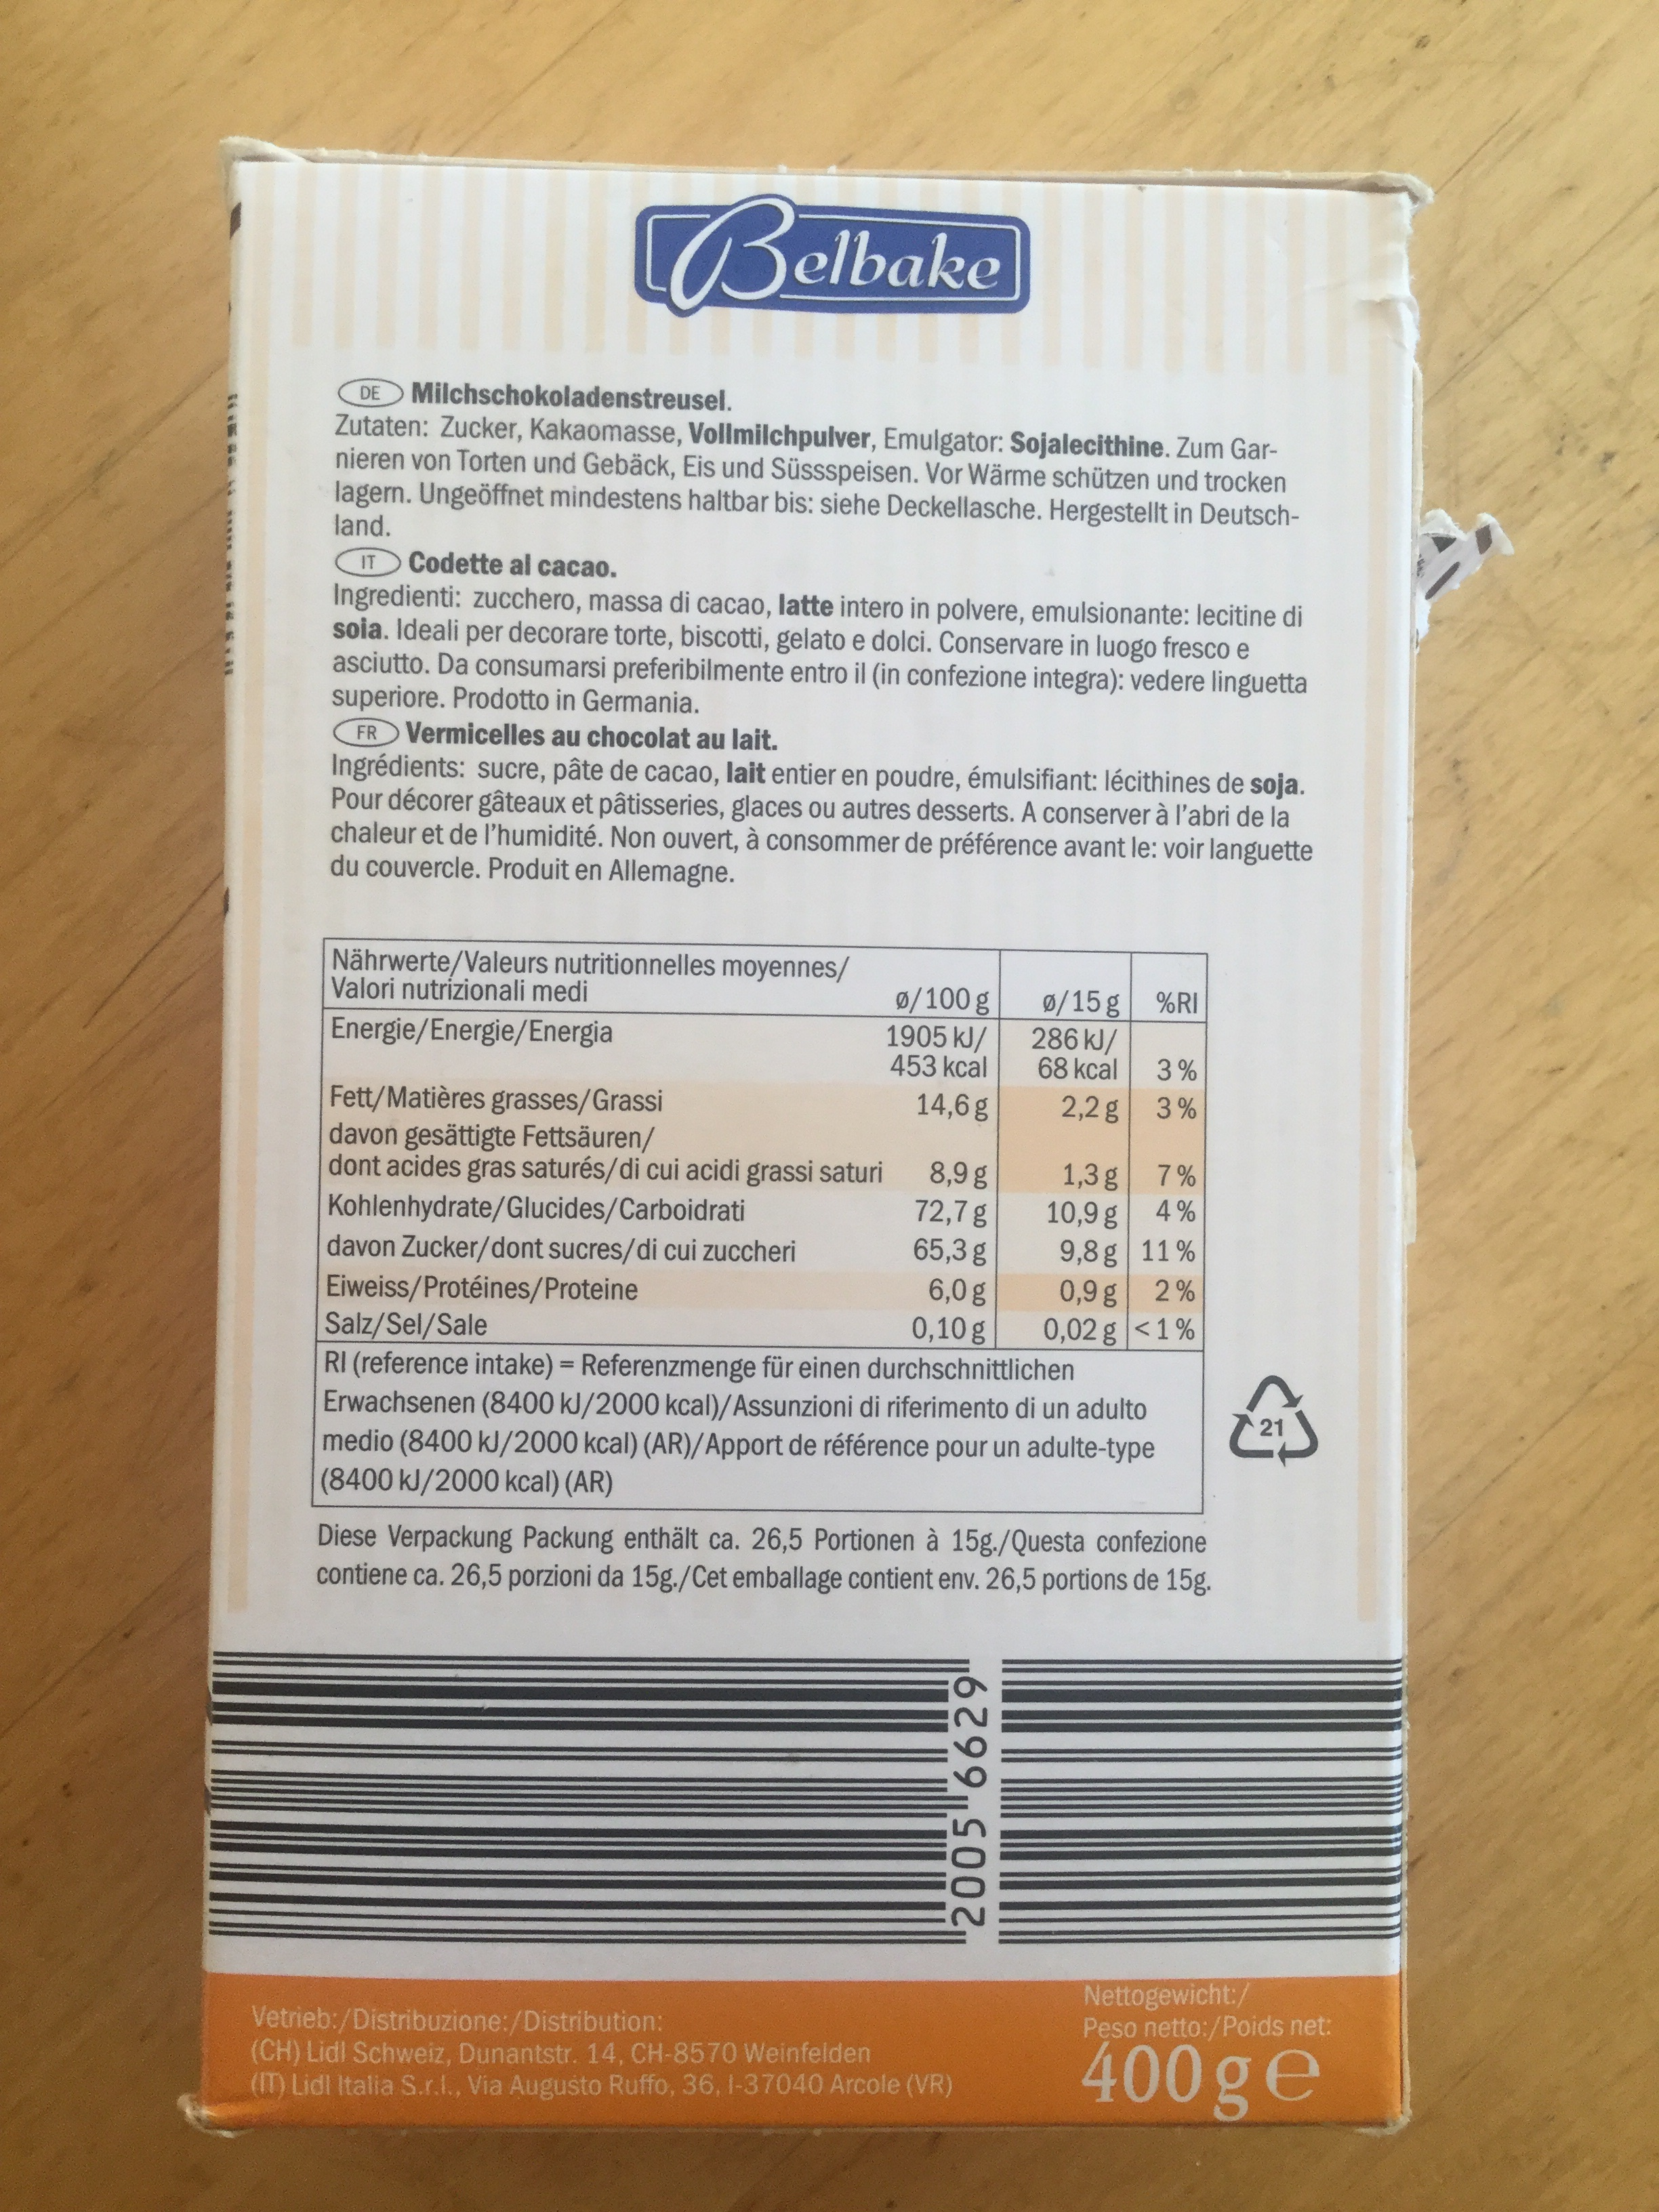column: (322, 937, 993, 1343), (1007, 937, 1129, 1339), (1140, 944, 1211, 1346)
table: (322, 939, 1208, 1345)
